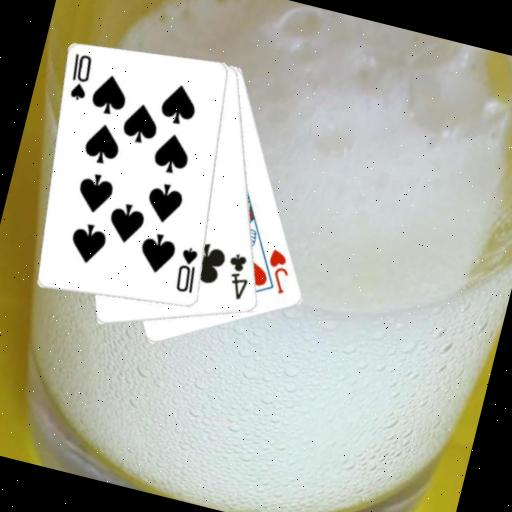10S: (62, 50, 97, 105), (170, 243, 205, 297)
4C: (218, 249, 256, 304)
JH: (258, 245, 296, 297)
